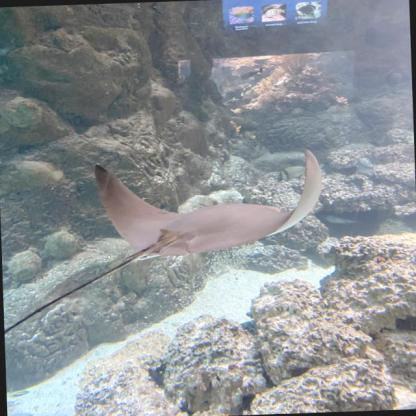stingray: (93, 149, 325, 259)
